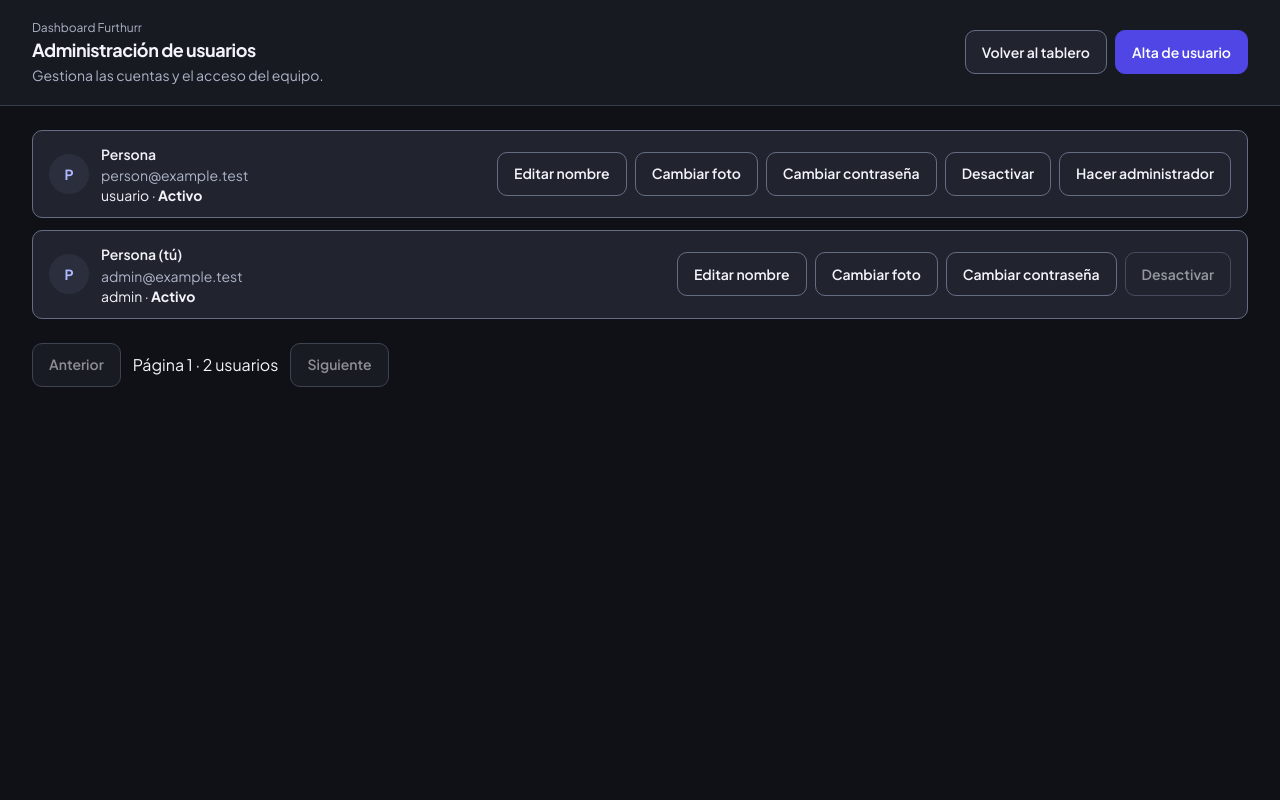
Scenario: Administración de usuarios › conserva el borrador ante un error al guardar el nombre y permite cancelar
This screenshot has width=1280, height=800.
Click the button with aria-label "Editar nombre de person@example.test" at (562, 174), box [497, 152, 627, 196]
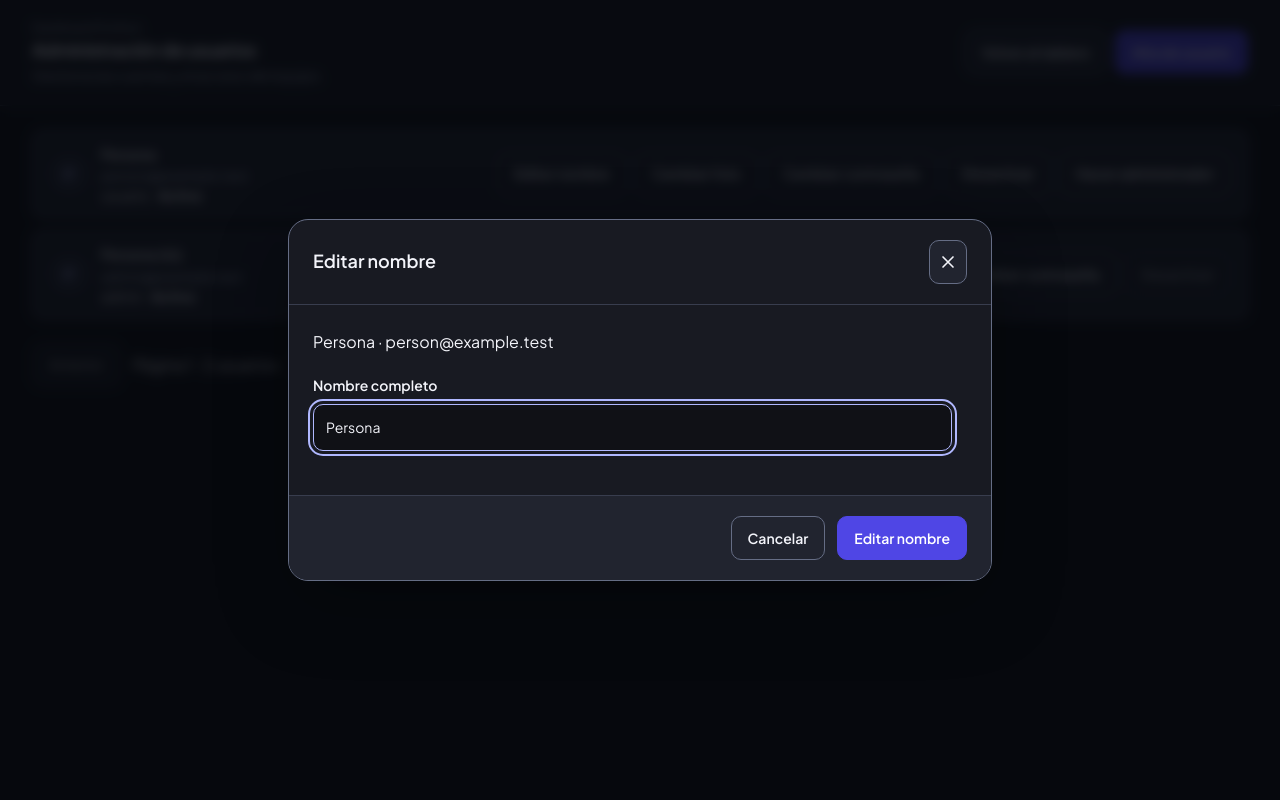
Replace the text in the field labelled "Nombre completo" with "Otro nombre" at (632, 428), box [313, 404, 952, 452]
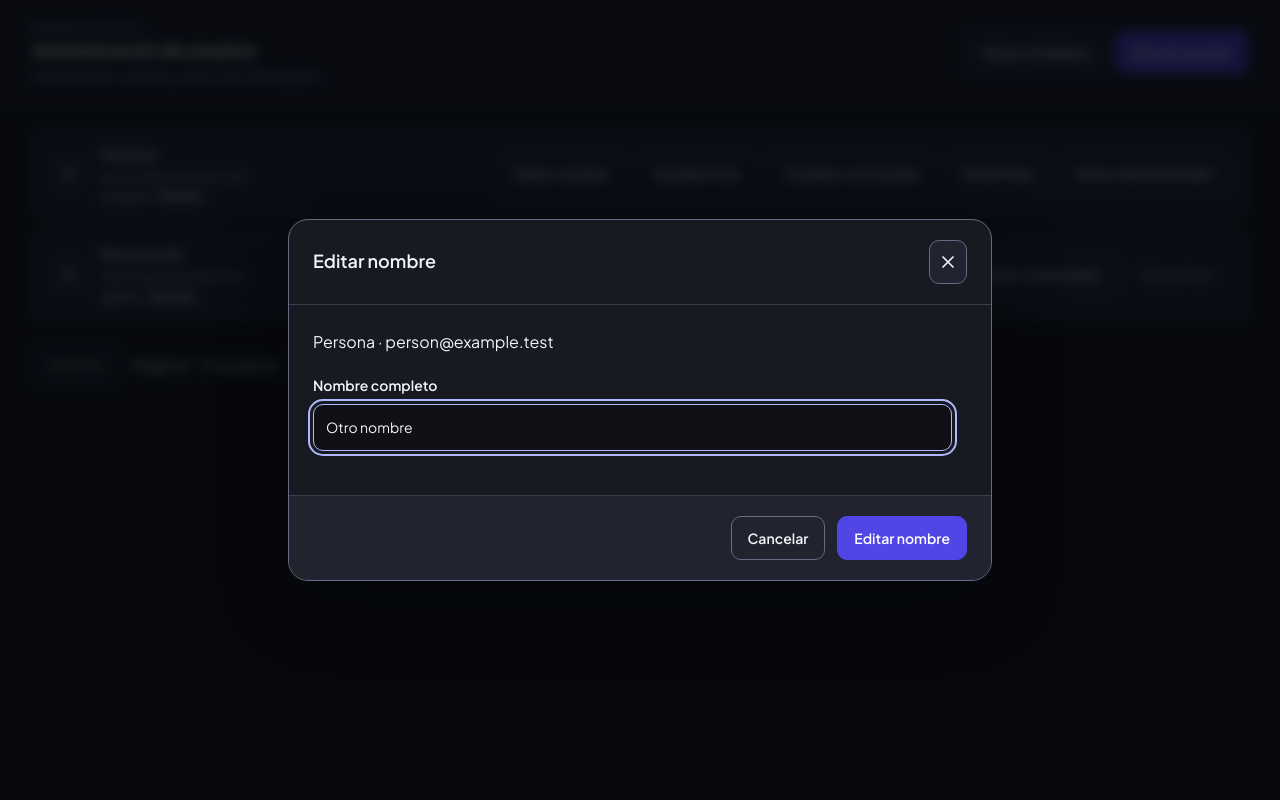
Click the button "Editar nombre" at (902, 538), box [837, 516, 967, 560]
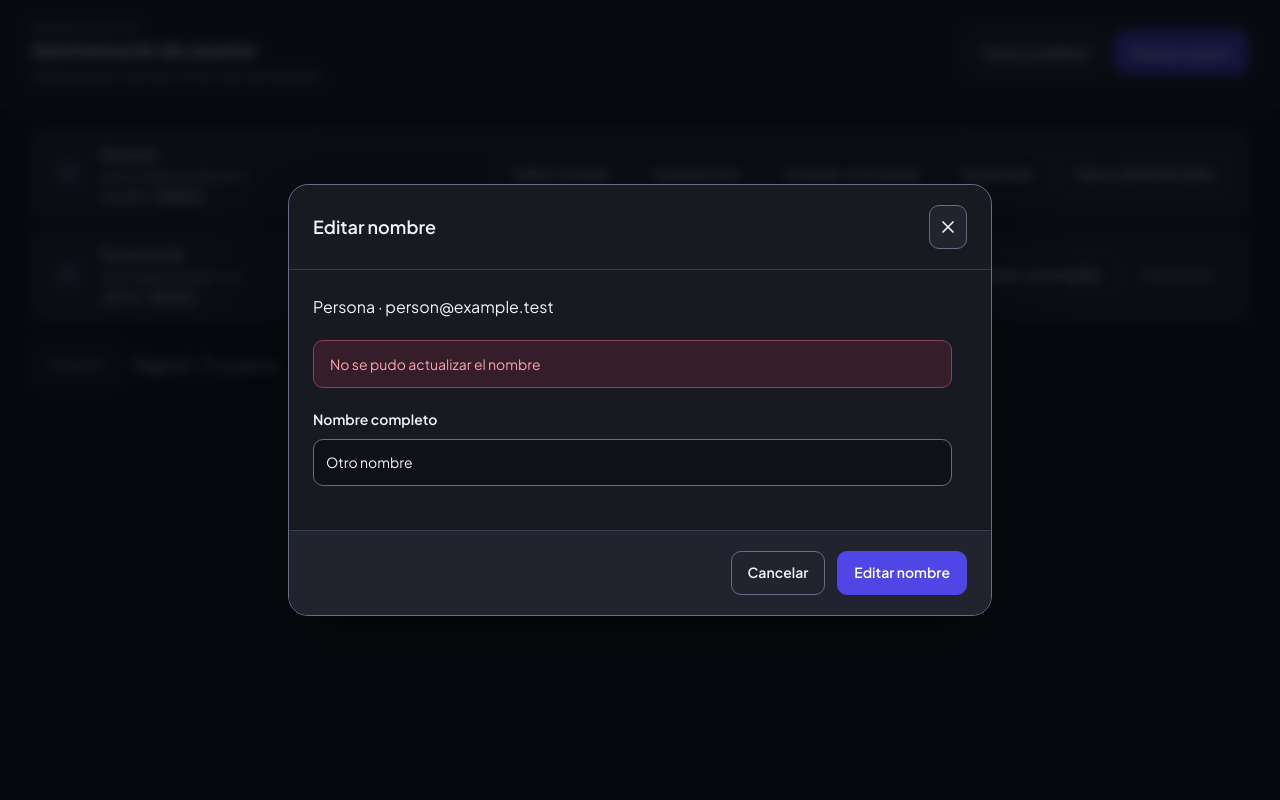
Check: the message reads "No se pudo actualizar el nombre", box [330, 355, 541, 373]
Click the button "Cancelar" at (778, 573), box [731, 551, 825, 595]
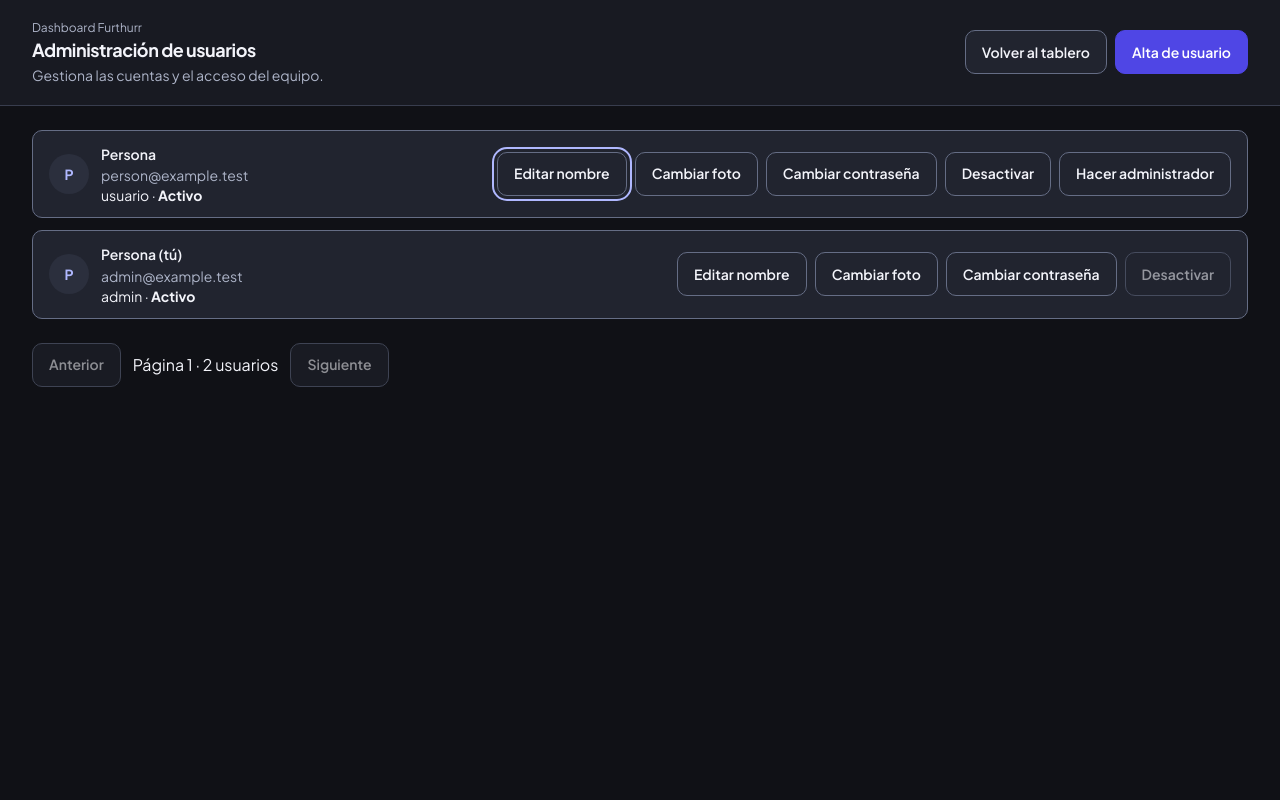
Check: the dialog is gone
